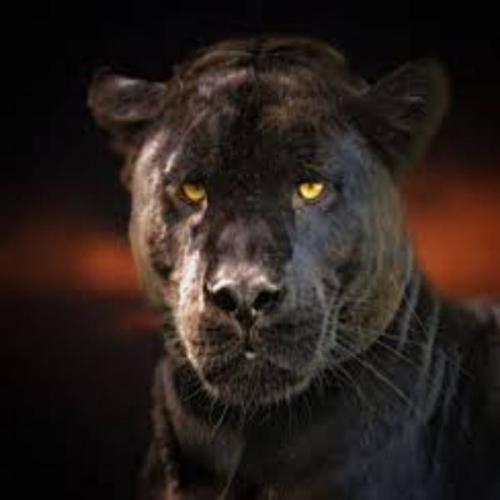panther-endangered: (82, 34, 500, 499)
